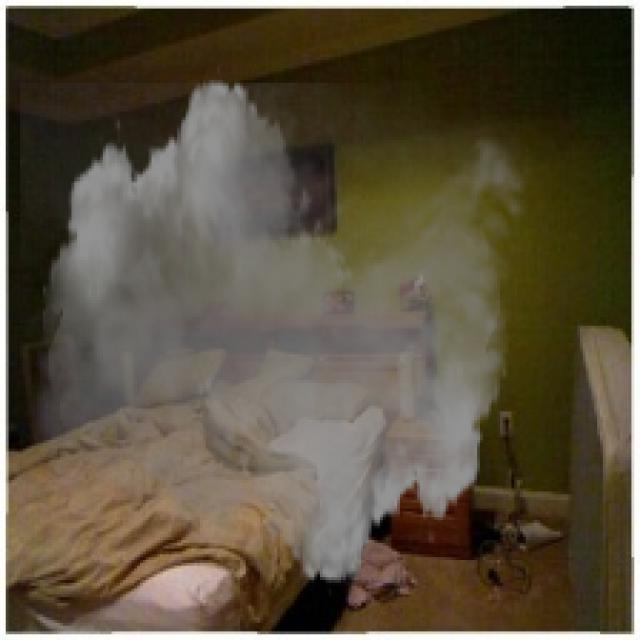smoke: (20, 63, 543, 600)
